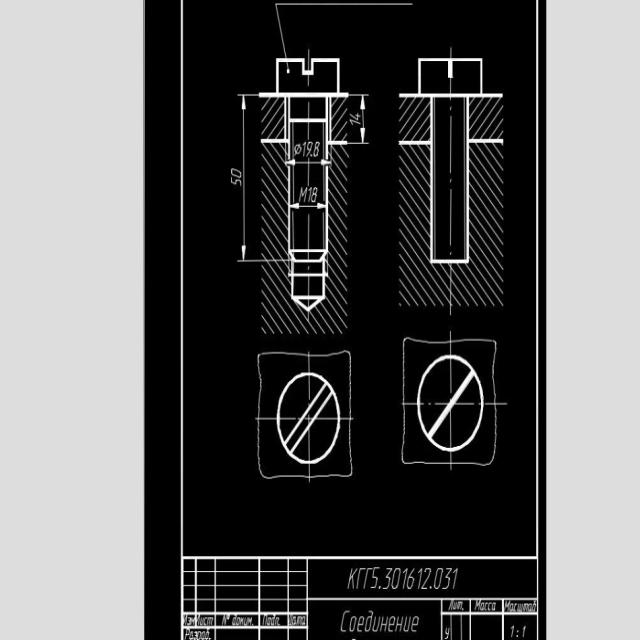marking_line: (239, 95, 248, 258), (286, 156, 333, 167), (289, 201, 326, 214), (359, 96, 366, 142)
numeric: (228, 161, 243, 190), (296, 185, 317, 202), (303, 141, 323, 157), (347, 111, 361, 131)
special_symbol: (293, 142, 303, 158)
